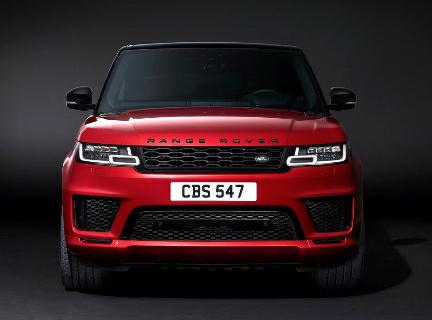路虎-揽胜运动版: (56, 37, 375, 295)
